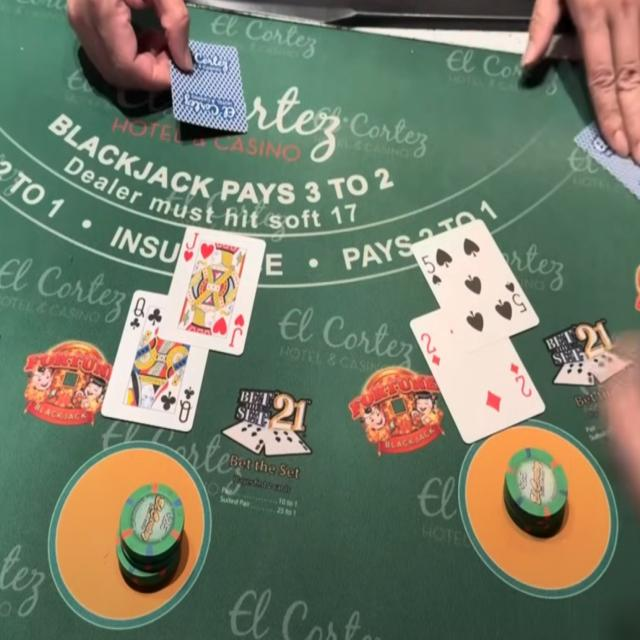2: (419, 329, 438, 354)
5: (420, 252, 436, 274)
J: (185, 231, 199, 250)
Q: (132, 295, 146, 319)
